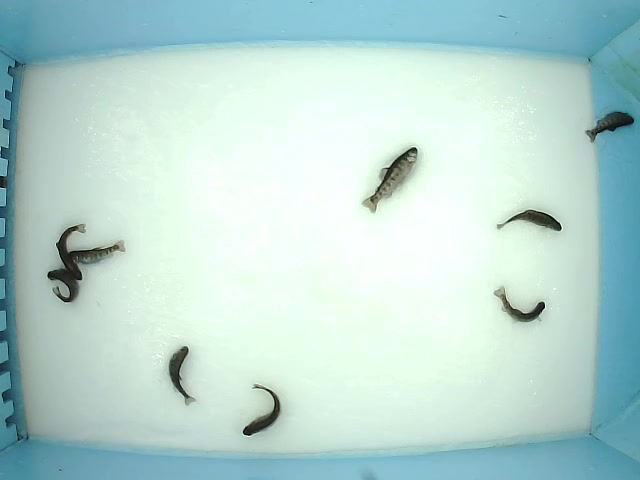fish: (359, 145, 419, 215), (492, 284, 547, 326), (242, 382, 282, 438), (167, 345, 198, 407), (55, 223, 87, 282), (495, 208, 563, 233), (584, 110, 632, 145), (67, 239, 127, 265), (47, 268, 81, 304)
